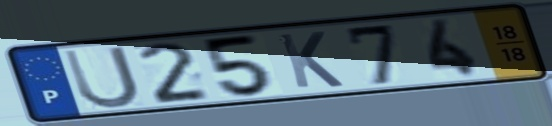2: (137, 40, 216, 106)
4: (426, 16, 483, 80)
5: (199, 31, 276, 100)
7: (341, 24, 403, 87)
K: (274, 29, 348, 91)
U: (59, 43, 144, 111)
